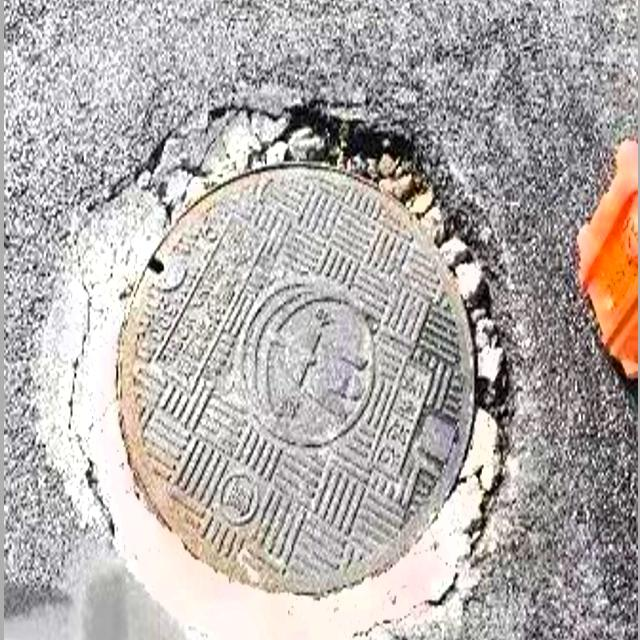circle: (42, 105, 512, 640)
